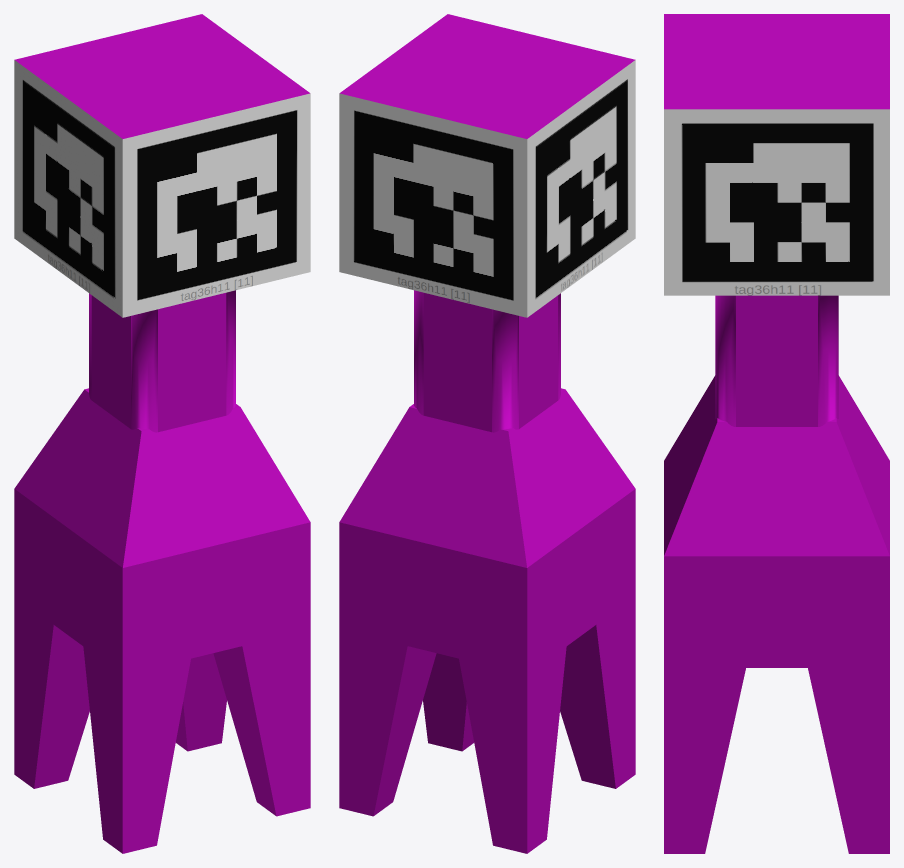
File: Creeper.dae
The picture shows the model from 3 angles, left to right: view 1: azimuth 30°, elevation 25°; view 2: azimuth 150°, elevation 25°; view 3: azimuth 270°, elevation 25°; orthographic projection. The views are drawn at different scales.
Visible parts, largest first — view 1: NovoCreeperV3 v1; view 2: NovoCreeperV3 v1; view 3: NovoCreeperV3 v1.
Boxes of the visible parts, x1,y1,x2,y2 form: NovoCreeperV3 v1: (14, 14, 310, 853); NovoCreeperV3 v1: (339, 14, 635, 853); NovoCreeperV3 v1: (664, 14, 889, 853).
Bounding box in the file's own units: 5.5 × 5.5 × 20.
Materials: 2 (1 with a texture image).
